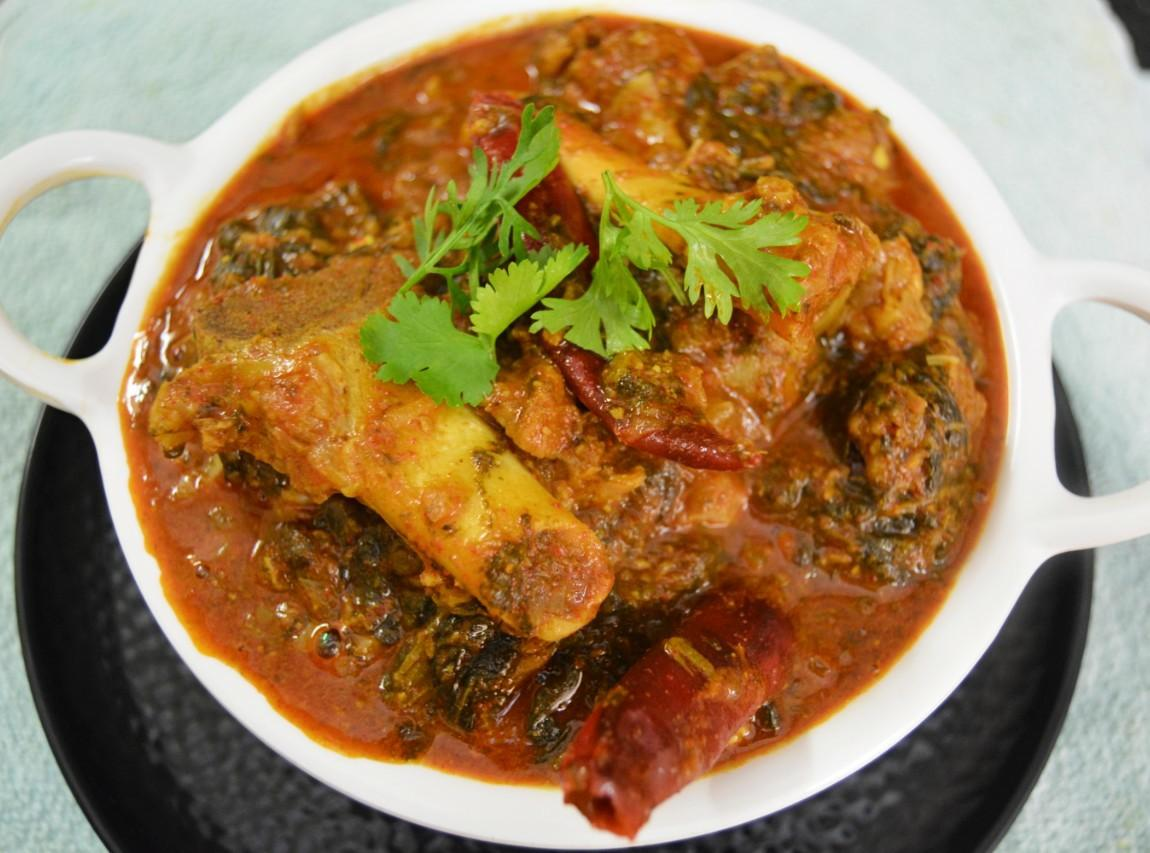MuttonCurry: (119, 15, 1011, 843)
